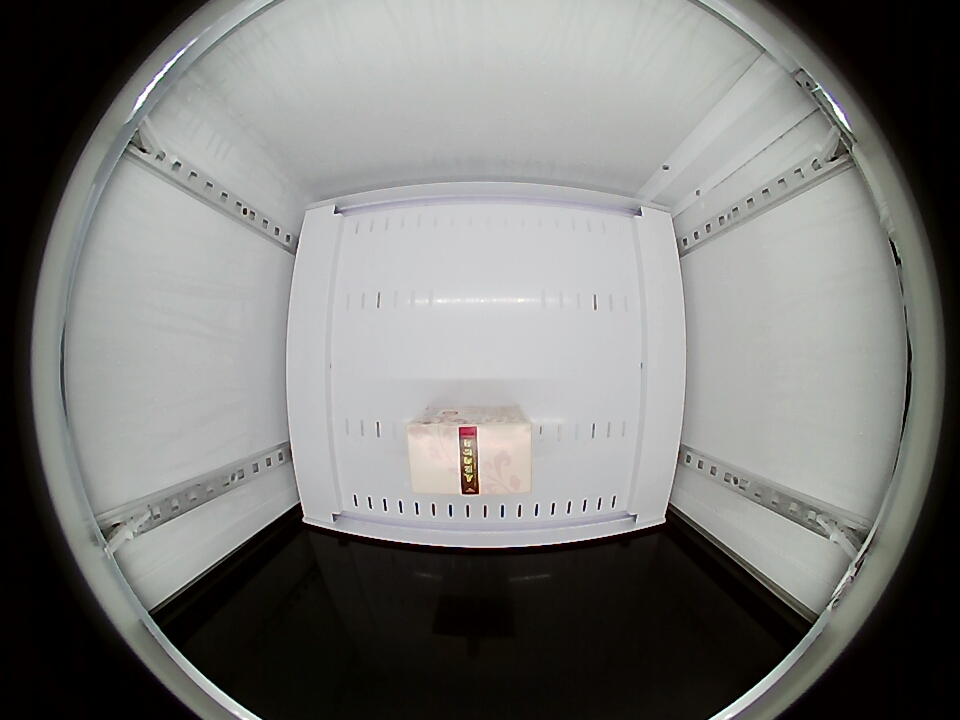rousongbing: (407, 410, 532, 497)
